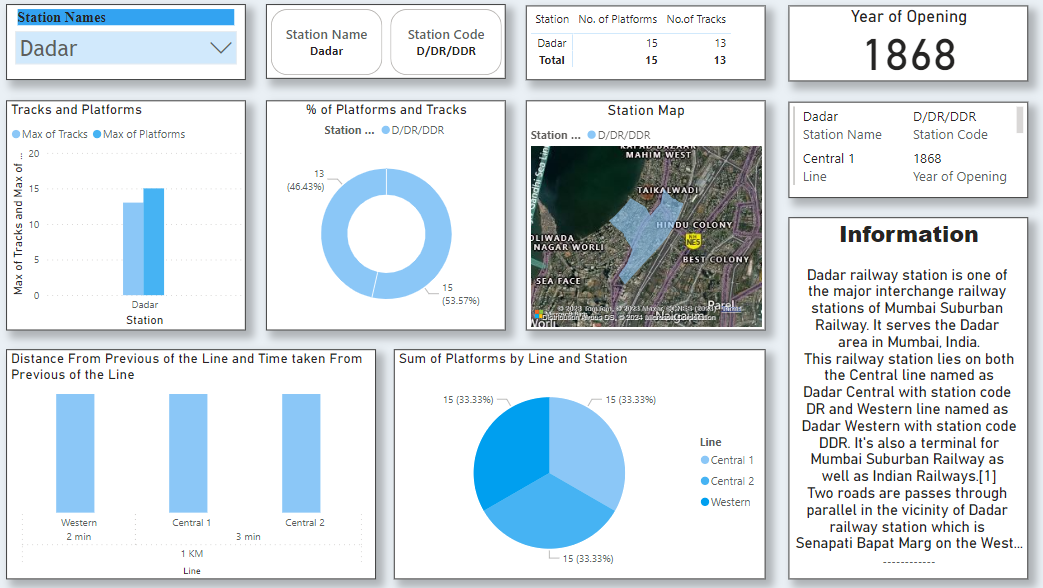

The dashboard page shown, as its layout file describes it:
{"tool":"powerbi","page":{"name":"Page 1","canvas":[1280,720],"ordinal":0},"visuals":[{"type":"slicer","fields":{"Values":["Mumbai Local Train Dataset.Station"]},"box":[10,10,290,91.7],"z":0},{"type":"donutChart","title":"% of Platforms and Tracks","fields":{"Category":["Mumbai Local Train Dataset.Station Code"],"Y":["Max(Mumbai Local Train Dataset.Platforms)","Max(Mumbai Local Train Dataset.Tracks)"]},"box":[325,126.7,290,278.3],"z":1000},{"type":"cardVisual","fields":{"Data":["Min(Mumbai Local Train Dataset.Station)","Min(Mumbai Local Train Dataset.Station Code)"]},"box":[325,10,290,90],"z":2000},{"type":"pivotTable","fields":{"Rows":["Mumbai Local Train Dataset.Station"],"Values":["Max(Mumbai Local Train Dataset.Platforms)","Max(Mumbai Local Train Dataset.Tracks)"]},"box":[640,11.7,290,90],"z":4000},{"type":"kpi","title":"Year of Opening","fields":{"Indicator":["Max(Mumbai Local Train Dataset.Year of Opening )"],"TrendLine":["Mumbai Local Train Dataset.Station"]},"box":[958.3,11.7,290,91.7],"z":5000},{"type":"multiRowCard","fields":{"Values":["Mumbai Local Train Dataset.Station","Mumbai Local Train Dataset.Station Code","Mumbai Local Train Dataset.Line","Sum(Mumbai Local Train Dataset.Year of Opening )"]},"box":[958.3,128.3,290,116.7],"z":6000},{"type":"ribbonChart","title":"Distance From Previous of the Line and Time taken From Previous of the Line","fields":{"Category":["Mumbai Local Train Dataset.Distance From Previous of the Line","Mumbai Local Train Dataset.Time taken From Previous of the Line","Mumbai Local Train Dataset.Line"],"Y":["CountNonNull(Mumbai Local Train Dataset.Station)"]},"box":[10,428.3,448.3,278.3],"z":7000},{"type":"filledMap","title":"Station Map","fields":{"Category":["Mumbai Local Train Dataset.Station"],"Series":["Mumbai Local Train Dataset.Station Code"]},"box":[640,126.7,290,278.3],"z":8000},{"type":"clusteredColumnChart","title":"Tracks and Platforms","fields":{"Category":["Mumbai Local Train Dataset.Station"],"Y":["Max(Mumbai Local Train Dataset.Tracks)","Max(Mumbai Local Train Dataset.Platforms)"]},"box":[10,126.7,290,278.3],"z":9000},{"type":"card","title":"Information","fields":{"Values":["Min(Mumbai Local Train Dataset.About)"]},"box":[958.3,268.3,290,438.3],"z":10000},{"type":"pieChart","fields":{"Category":["Mumbai Local Train Dataset.Line"],"Series":["Mumbai Local Train Dataset.Station"],"Y":["Sum(Mumbai Local Train Dataset.Platforms)"]},"box":[480,428.3,450,278.3],"z":11000}]}

Visuals, with their boxes in screenshot pixels (x1, y1, x2, y2), scaled from the page's 1280x720 canvas onto the 1043x588 screenshot:
slicer - Mumbai Local Train Dataset.Station: x1=8 y1=8 x2=244 y2=83
"% of Platforms and Tracks" donutChart: x1=265 y1=103 x2=501 y2=331
cardVisual - Min(Mumbai Local Train Dataset.Station) x Min(Mumbai Local Train Dataset.Station Code): x1=265 y1=8 x2=501 y2=82
pivotTable - Mumbai Local Train Dataset.Station x Max(Mumbai Local Train Dataset.Platforms): x1=522 y1=10 x2=758 y2=83
"Year of Opening" kpi: x1=781 y1=10 x2=1017 y2=84
multiRowCard - Mumbai Local Train Dataset.Station x Mumbai Local Train Dataset.Station Code: x1=781 y1=105 x2=1017 y2=200
"Distance From Previous of the Line and Time taken From Previous of the Line" ribbonChart: x1=8 y1=350 x2=373 y2=577
"Station Map" filledMap: x1=522 y1=103 x2=758 y2=331
"Tracks and Platforms" clusteredColumnChart: x1=8 y1=103 x2=244 y2=331
"Information" card: x1=781 y1=219 x2=1017 y2=577
pieChart - Mumbai Local Train Dataset.Line x Mumbai Local Train Dataset.Station: x1=391 y1=350 x2=758 y2=577
